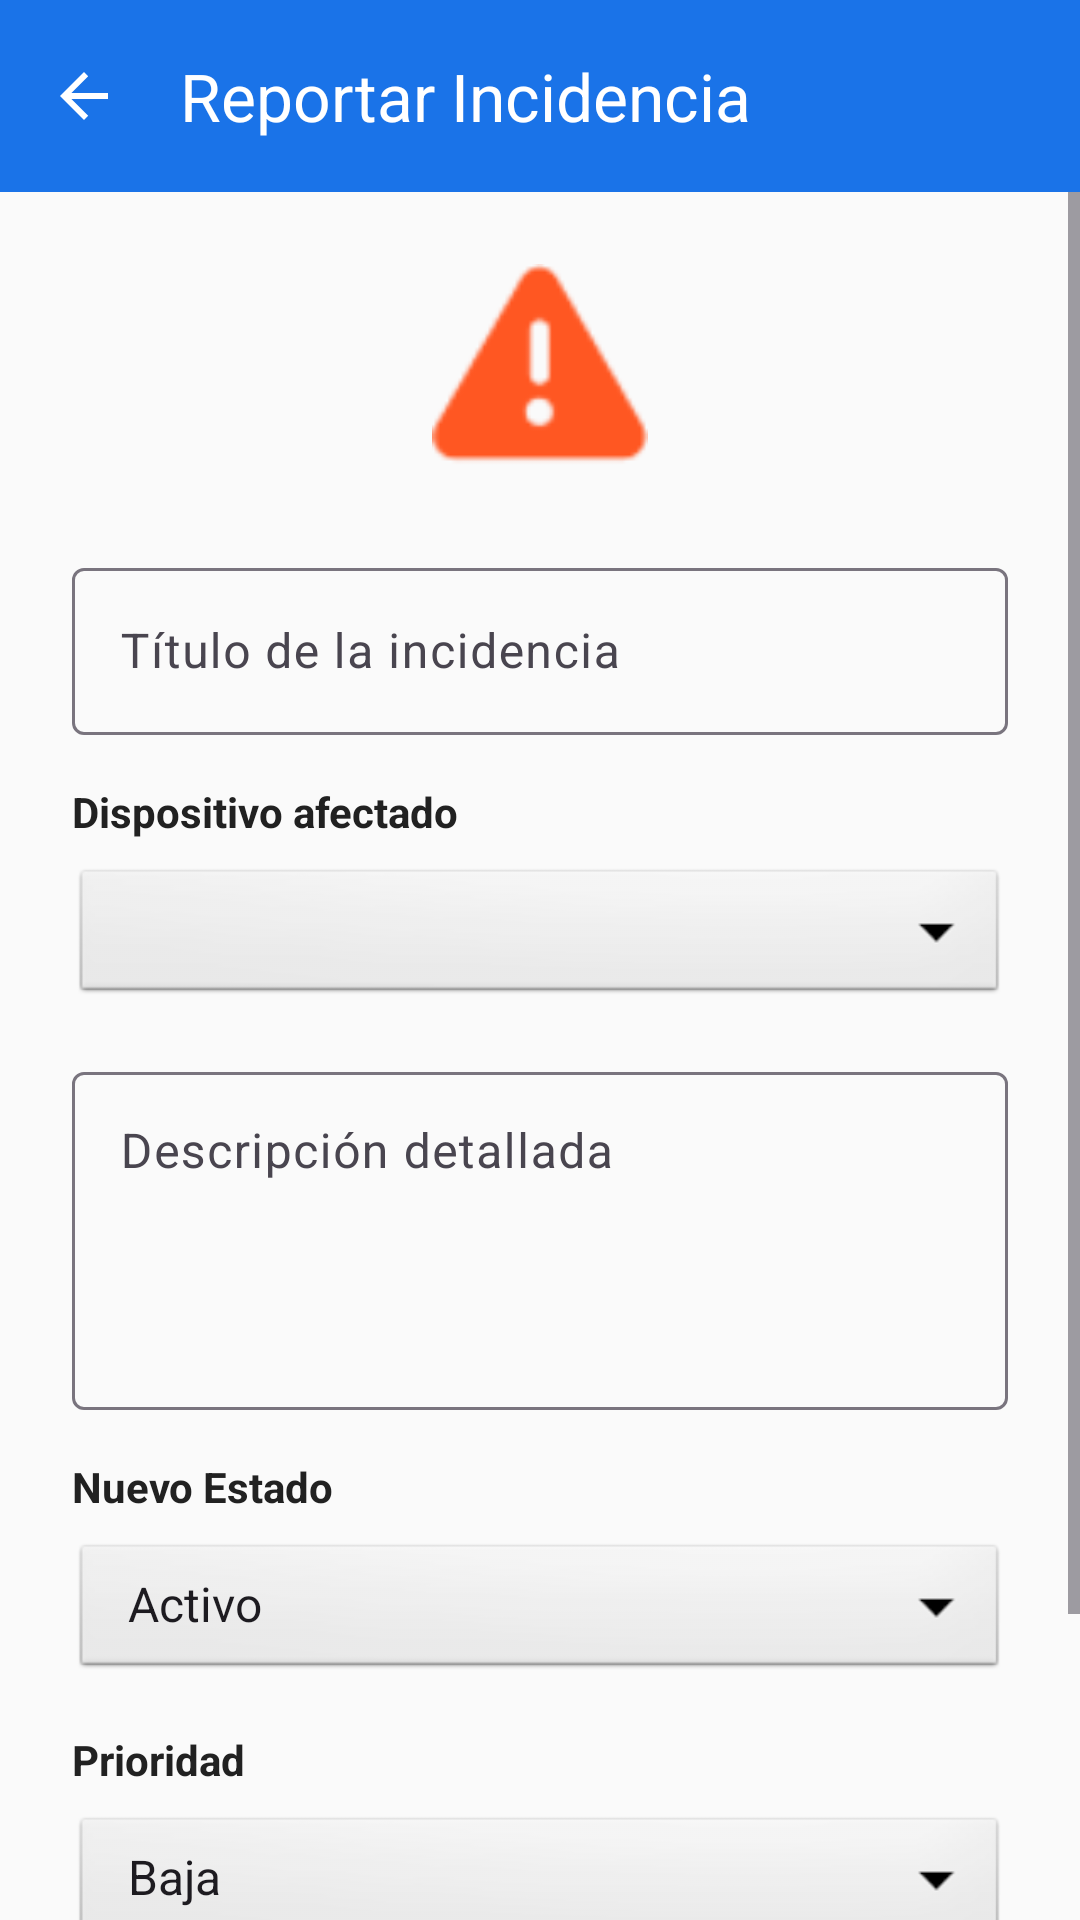

Icon bounding boxes for this 1080*1920 phone screenshot, format (x1, y1, x2, y2):
Report icon: (432, 264, 648, 461)
